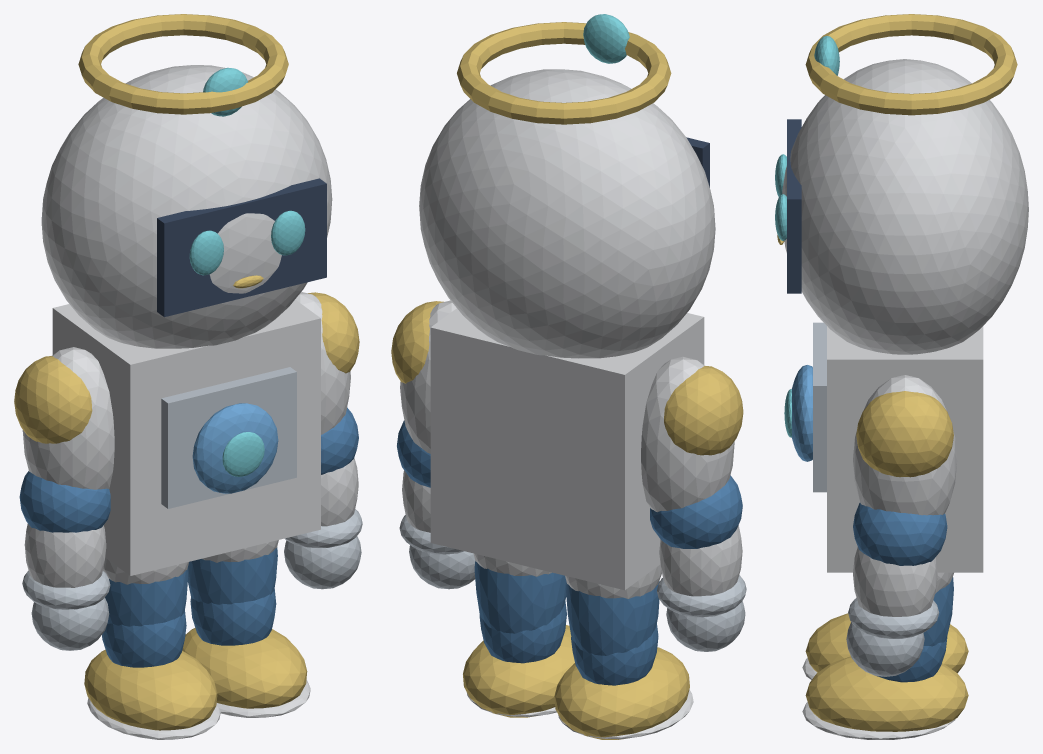
Rendered from avatar_ai_director_v2.glb.
3 renders of one model, left to right at view 1: azimuth 30°, elevation 25°; view 2: azimuth 150°, elevation 25°; view 3: azimuth 270°, elevation 25°, orthographic.
Parts seen in each view (by area): view 1: head_shell, body_core, face_panel, director_halo, chest_plate, L_shoe, R_shoe, L_sleeve_upper, director_shoulder_-0.46, director_chest_core, L_sleeve_lower, L_elbow (+20 smaller); view 2: head_shell, body_core, director_halo, L_shoe, L_sleeve_upper, R_shoe, director_shoulder_-0.46, L_leg, R_leg, L_elbow, L_sleeve_lower, L_leg_bottom (+13 smaller); view 3: head_shell, body_core, director_halo, R_shoe, director_shoulder_0.46, R_sleeve_upper, R_elbow, R_sleeve_lower, R_hand, L_shoe, chest_plate, face_panel (+7 smaller).
Part boxes in pixels (bbox=[...]): head_shell: bbox=[41, 65, 332, 348]; body_core: bbox=[52, 299, 320, 575]; face_panel: bbox=[157, 178, 326, 317]; director_halo: bbox=[78, 14, 288, 114]; chest_plate: bbox=[161, 367, 296, 508]; L_shoe: bbox=[84, 649, 217, 730]; R_shoe: bbox=[182, 628, 307, 708]; L_sleeve_upper: bbox=[22, 347, 114, 489]; director_shoulder_-0.46: bbox=[14, 356, 92, 443]; director_chest_core: bbox=[192, 403, 278, 493]; L_sleeve_lower: bbox=[24, 523, 106, 587]; L_elbow: bbox=[19, 471, 110, 532]; head_shell: bbox=[419, 69, 715, 358]; body_core: bbox=[430, 308, 704, 590]; director_halo: bbox=[457, 22, 671, 124]; L_shoe: bbox=[554, 647, 689, 739]; L_sleeve_upper: bbox=[641, 356, 734, 512]; R_shoe: bbox=[463, 625, 574, 717]; director_shoulder_-0.46: bbox=[664, 366, 743, 455]; L_leg: bbox=[566, 581, 659, 655]; R_leg: bbox=[474, 561, 566, 633]; L_elbow: bbox=[650, 475, 742, 548]; L_sleeve_lower: bbox=[659, 525, 742, 596]; L_leg_bottom: bbox=[571, 623, 658, 685]; head_shell: bbox=[782, 59, 1028, 354]; body_core: bbox=[827, 326, 983, 572]; director_halo: bbox=[805, 14, 1017, 115]; R_shoe: bbox=[805, 656, 968, 731]; director_shoulder_0.46: bbox=[856, 391, 953, 477]; R_sleeve_upper: bbox=[853, 375, 957, 515]; R_elbow: bbox=[853, 502, 947, 565]; R_sleeve_lower: bbox=[853, 547, 937, 616]; R_hand: bbox=[846, 622, 924, 676]; L_shoe: bbox=[805, 613, 968, 672]; chest_plate: bbox=[813, 322, 826, 492]; face_panel: bbox=[787, 119, 801, 293].
Bounding box in the file's own units: 1.18 × 2.27 × 0.779.
